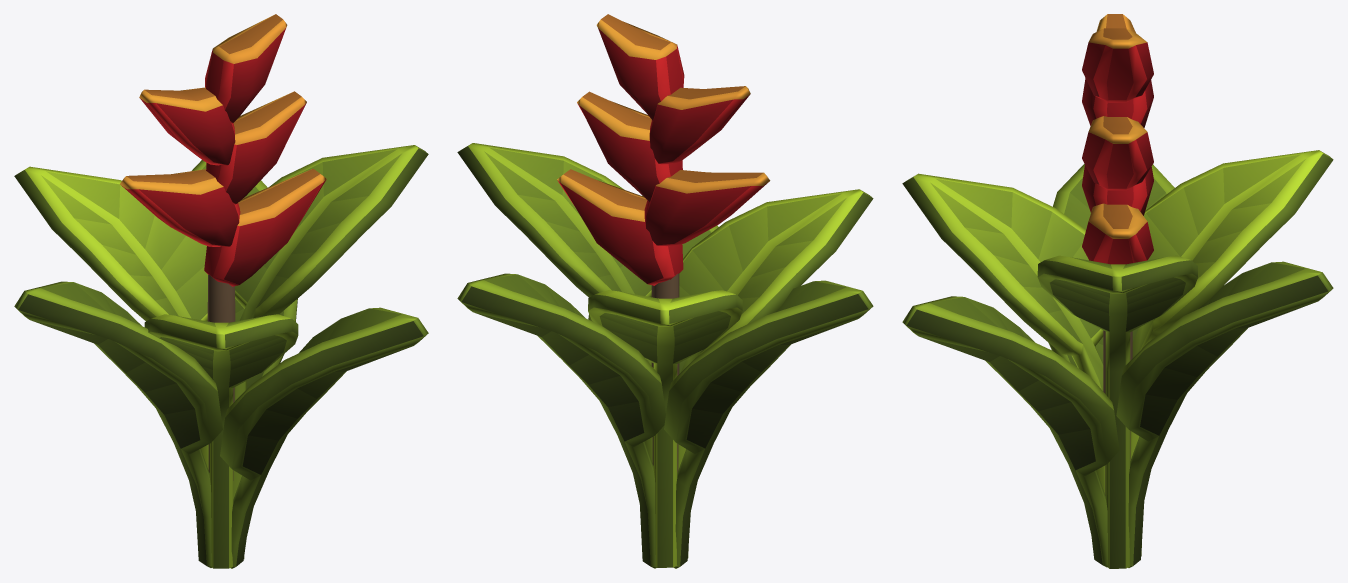
Rendered from heliconia_big_LOD_group.fbx.
3 views of the same model, side by side, from view 1: azimuth 30°, elevation 25°; view 2: azimuth 150°, elevation 25°; view 3: azimuth 270°, elevation 25° (orthographic). The views are drawn at different scales.
Parts seen in each view (by area): view 1: heliconia_big_LOD0; view 2: heliconia_big_LOD0; view 3: heliconia_big_LOD0.
Boxes of the visible parts, x1=… form: heliconia_big_LOD0: x1=14, y1=14, x2=428, y2=568; heliconia_big_LOD0: x1=457, y1=14, x2=873, y2=568; heliconia_big_LOD0: x1=902, y1=14, x2=1333, y2=568.
Size of what is drawn, in the model's own units: 199 by 246 by 174.
Materials: 1 (1 with a texture image).
